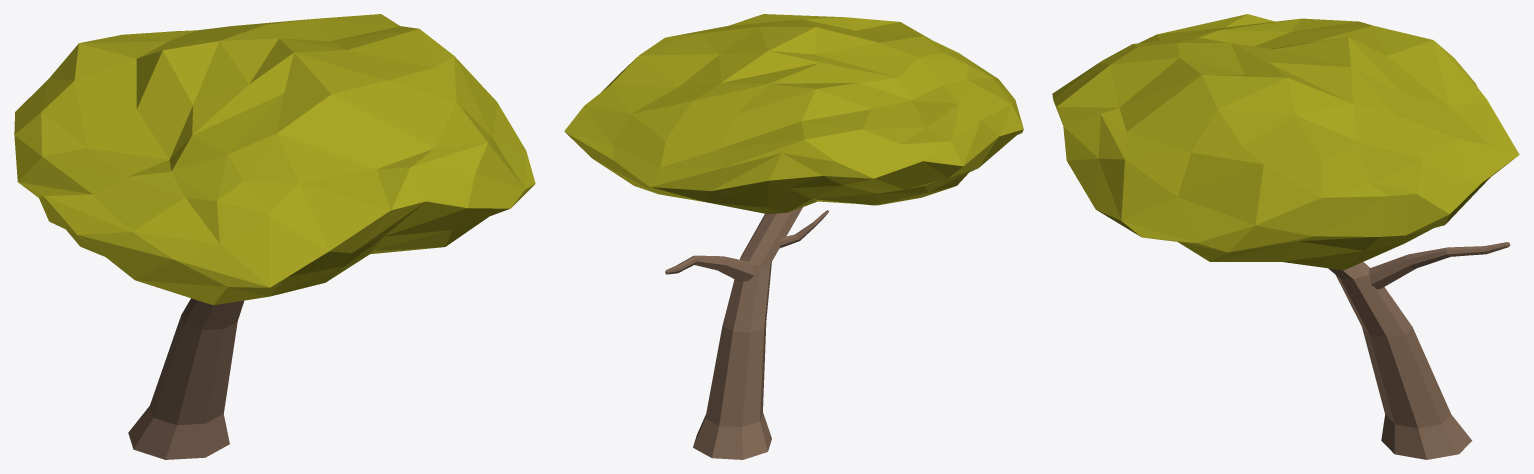
The model's file is Acacia_01.fbx.
3 renders of one model, left to right at view 1: azimuth 30°, elevation 25°; view 2: azimuth 150°, elevation 25°; view 3: azimuth 270°, elevation 25°, orthographic. The views are drawn at different scales.
Visible parts, largest first — view 1: tree4.001; view 2: tree4.001; view 3: tree4.001.
Boxes of the visible parts, x1,y1,x2,y2 form: tree4.001: (14,14,535,459); tree4.001: (564,14,1023,459); tree4.001: (1052,14,1519,459).
Bounding box in the file's own units: 583 × 527 × 590.
